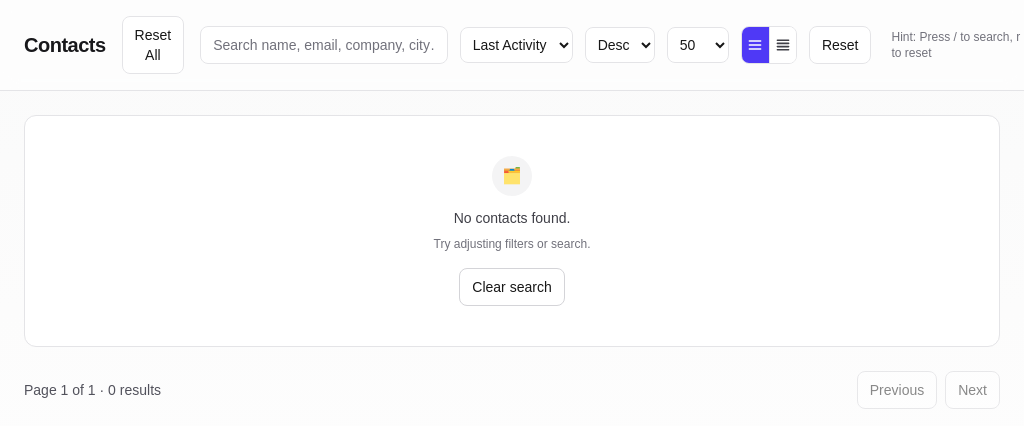
Test: ContactsPage component › Reset All shows success toast
Click the button "Reset All" at (153, 45), box [122, 16, 184, 74]
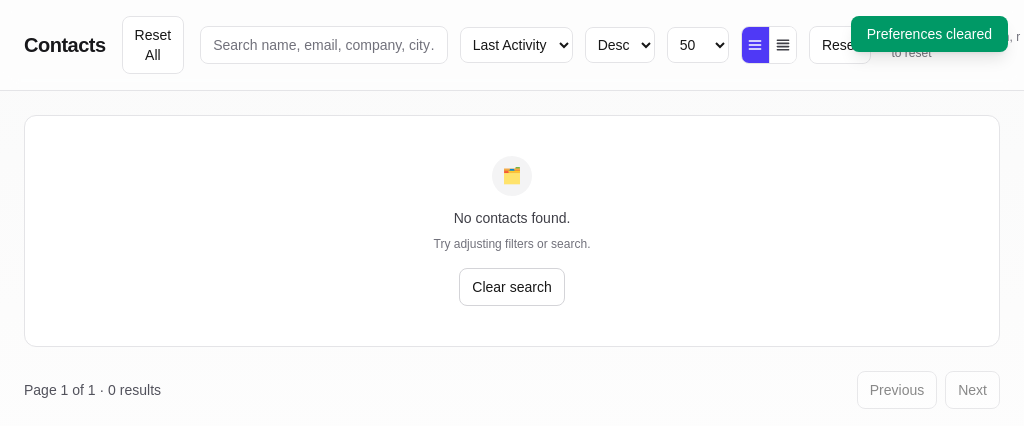
expect the text "Preferences cleared" is shown: met, box [851, 16, 1008, 52]
